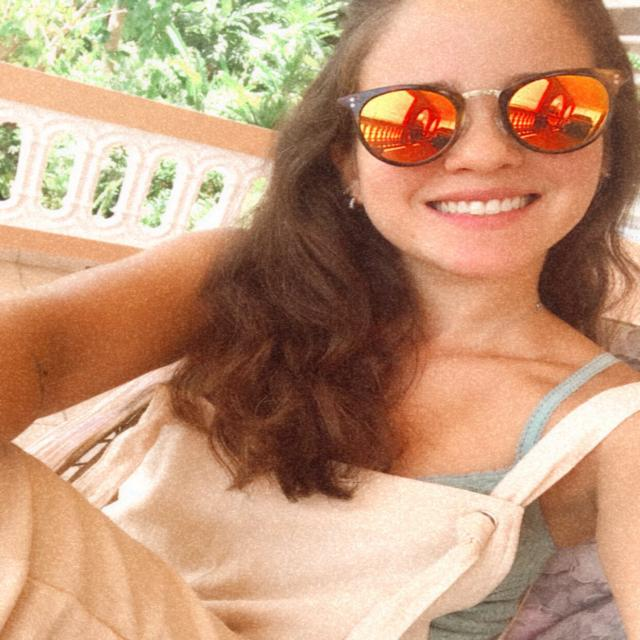2_gafas: (336, 66, 628, 168)
